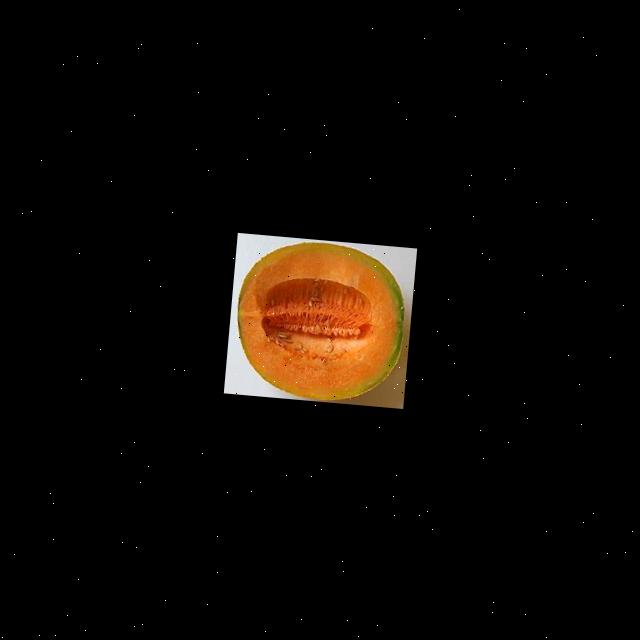Hami Melon: (230, 236, 410, 407)
